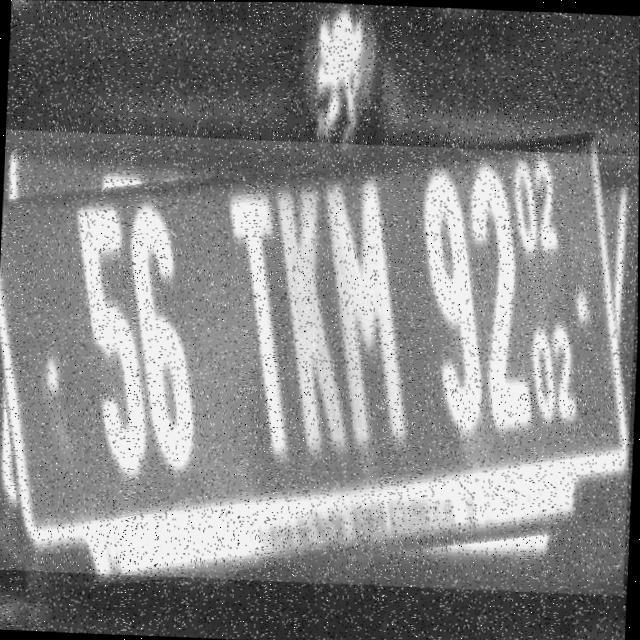LicensePlate: (0, 129, 639, 595)
